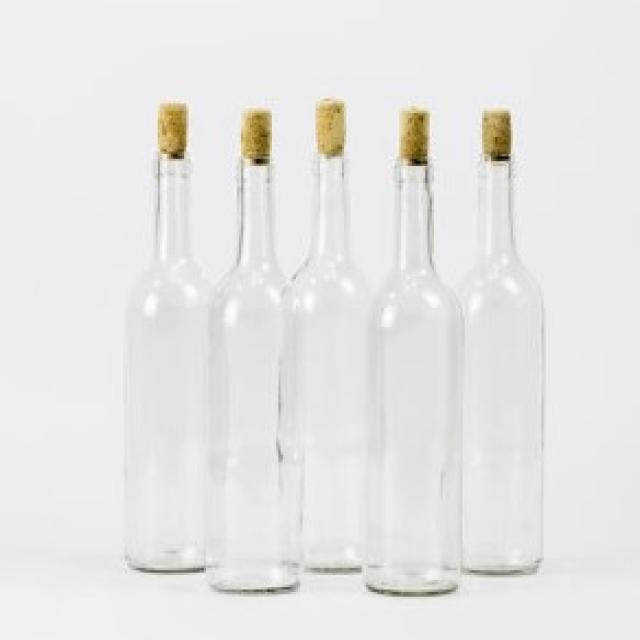electronic: (117, 104, 552, 598)
